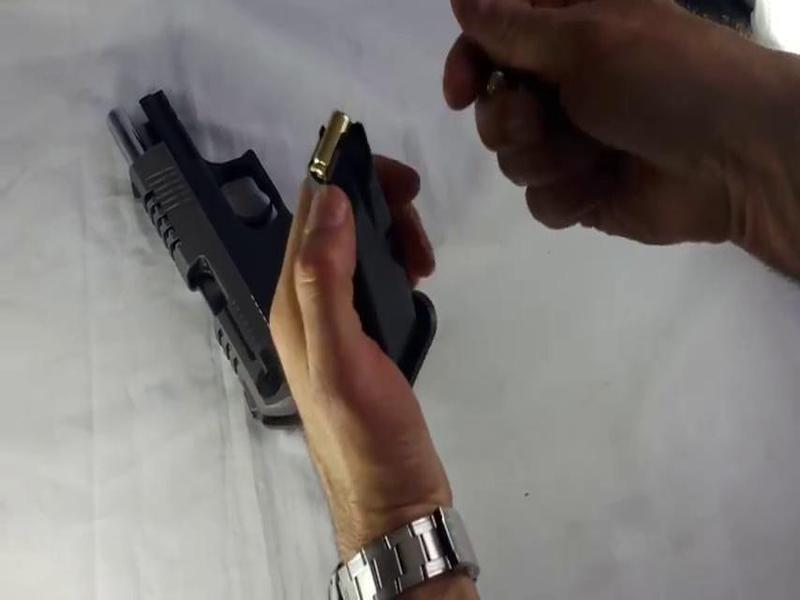Pistola: (92, 68, 430, 422)
